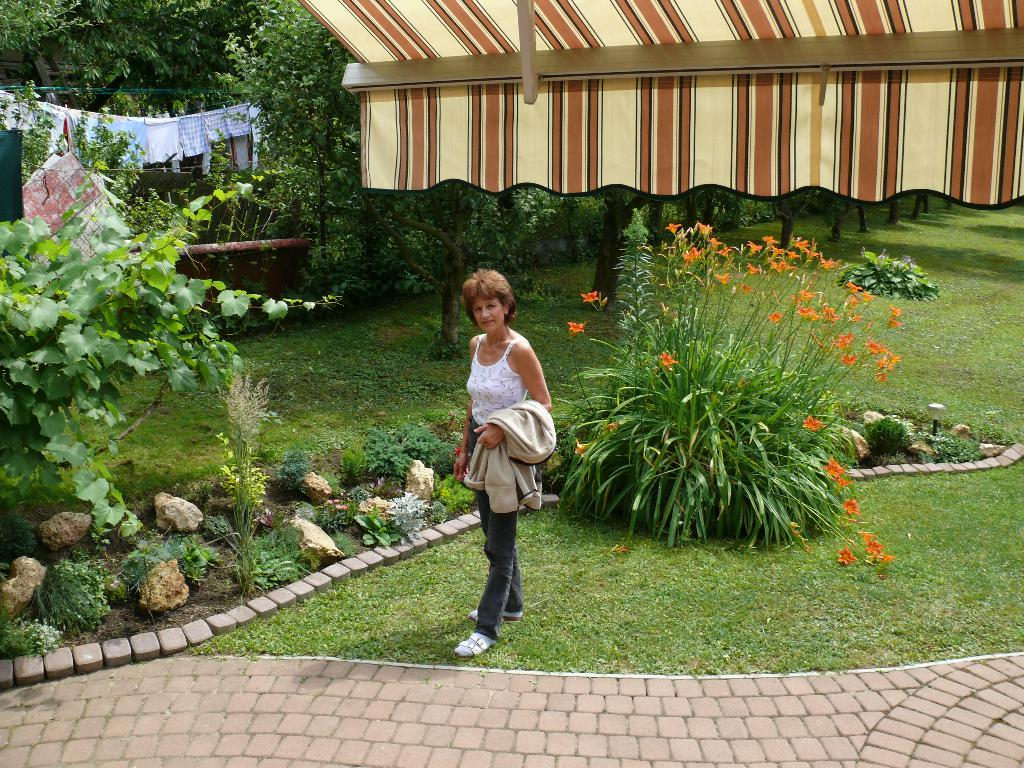Tree: (0, 0, 954, 363)
